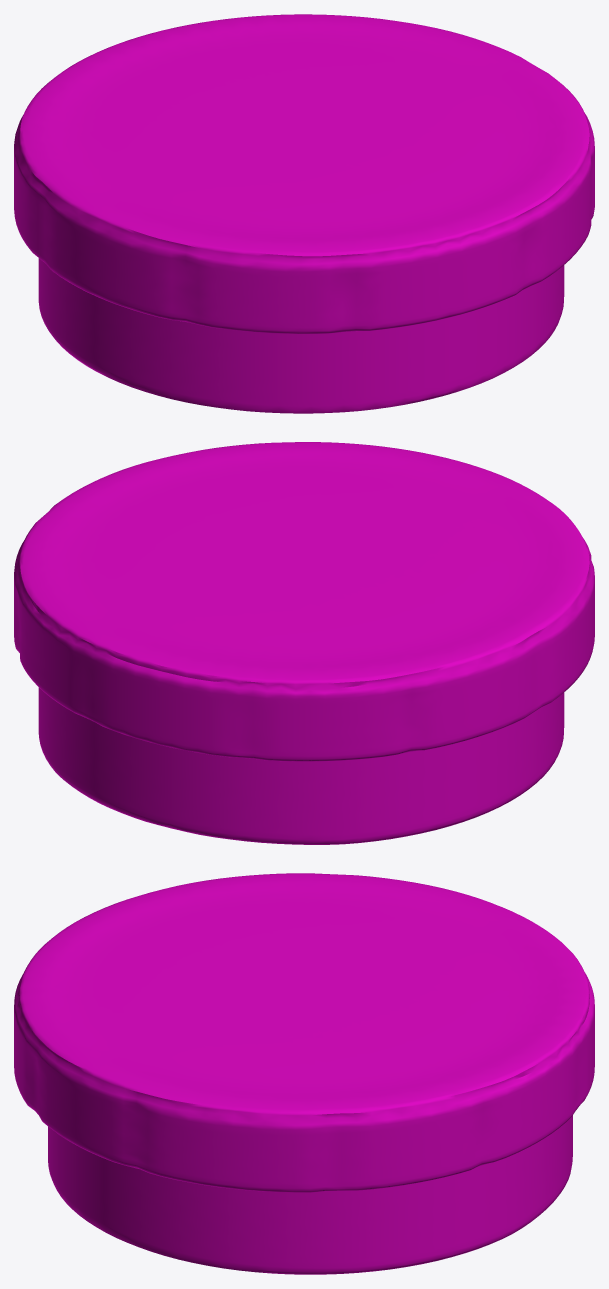
File: art.gltf
3 views of the same model, one above another, from view 1: azimuth 30°, elevation 25°; view 2: azimuth 150°, elevation 25°; view 3: azimuth 270°, elevation 25° (orthographic).
Parts seen in each view (by area): view 1: Object_11, Object_6; view 2: Object_11, Object_6; view 3: Object_11, Object_6.
Boxes of the visible parts, x1,y1,x2,y2 form: Object_11: (14, 14, 594, 333); Object_6: (38, 258, 564, 413); Object_11: (14, 442, 594, 761); Object_6: (38, 687, 564, 844); Object_11: (14, 873, 594, 1192); Object_6: (48, 1115, 572, 1274).
Size of the model in its own units: 3.61 by 1.23 by 3.61.
